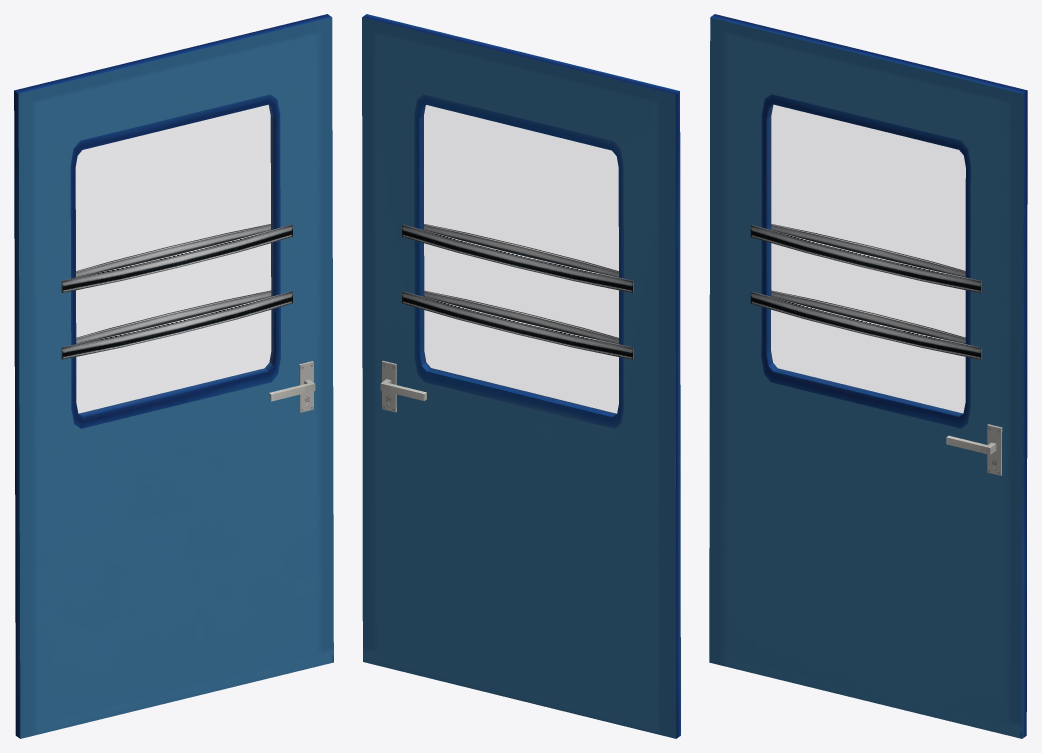
Rendered from Train01aCupe_1Door_a.FBX.
3 views of the same model, side by side, from view 1: azimuth 30°, elevation 25°; view 2: azimuth 150°, elevation 25°; view 3: azimuth 330°, elevation 25° (orthographic).
Parts seen in each view (by area): view 1: Train01aCupe_Door2; view 2: Train01aCupe_Door2; view 3: Train01aCupe_Door2.
Boxes of the visible parts, x1,y1,x2,y2 form: Train01aCupe_Door2: [14, 14, 333, 738]; Train01aCupe_Door2: [362, 14, 680, 738]; Train01aCupe_Door2: [709, 14, 1027, 738].
Size of the model in its own units: 74.13 by 146 by 7.74.
